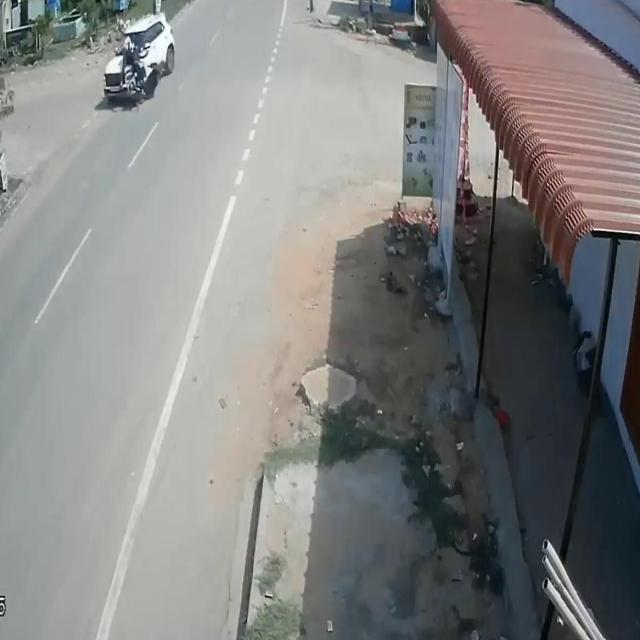accident: (99, 4, 181, 116)
